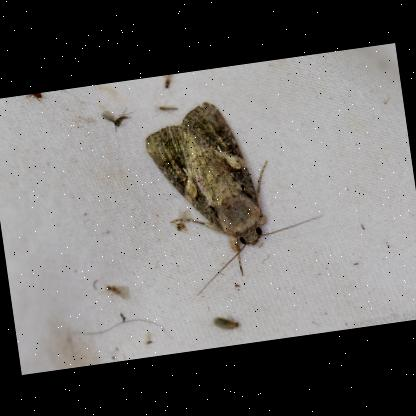Fall Armyworm Moth: (137, 83, 333, 301)
